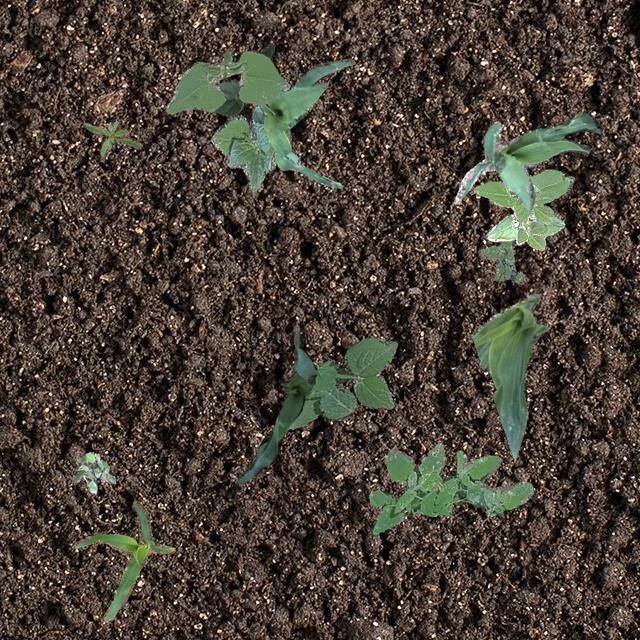crop: (452, 113, 600, 215), (236, 322, 316, 482), (72, 499, 175, 622), (472, 292, 546, 460), (258, 58, 352, 188), (472, 168, 574, 250), (164, 48, 288, 114), (210, 104, 276, 190), (212, 42, 274, 114)
weed: (368, 442, 532, 534), (286, 338, 396, 428), (82, 120, 142, 158), (476, 238, 524, 282), (74, 451, 114, 492)
